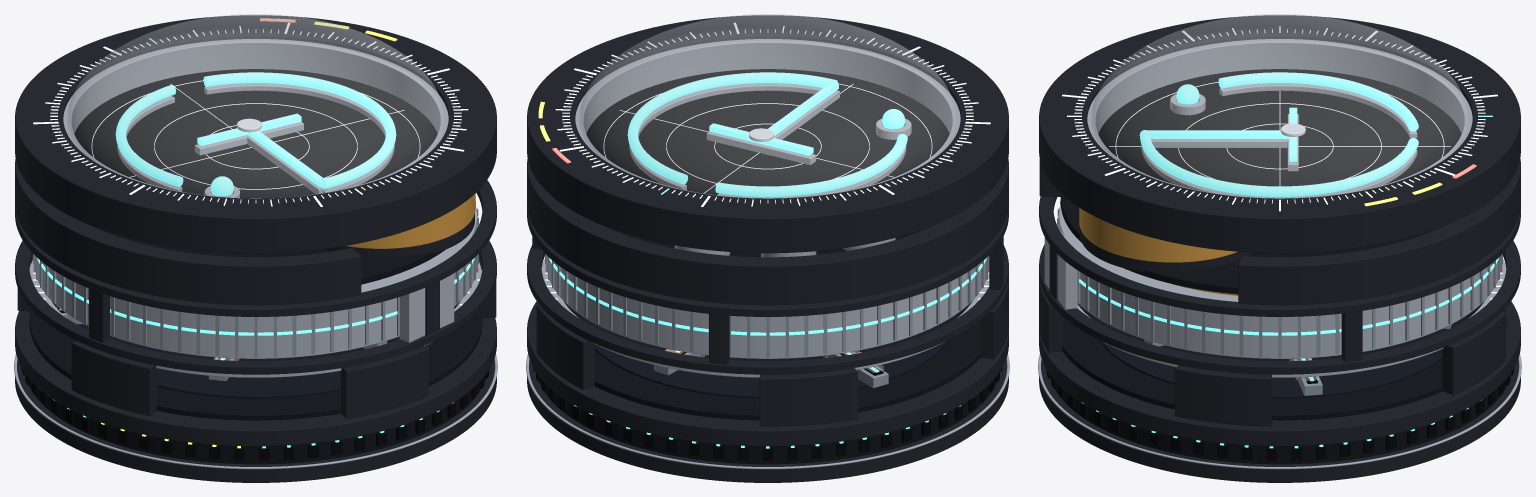
Rendered from meter.glb.
3 renders of one model, left to right at view 1: azimuth 30°, elevation 25°; view 2: azimuth 150°, elevation 25°; view 3: azimuth 270°, elevation 25°, orthographic.
Visible parts, largest first — view 1: quota_dome_glass, quota_anodized, quota_black, ingest_anodized, credits_anodized, quota_steel, drum_anodized, drum_outer_steel, prism_anodized, prism_graphite, quota_cyan, ingest_graphite (+11 smaller); view 2: quota_dome_glass, quota_anodized, credits_anodized, quota_black, ingest_anodized, quota_steel, drum_anodized, drum_outer_steel, prism_anodized, prism_graphite, quota_cyan, ingest_graphite (+11 smaller); view 3: quota_dome_glass, quota_anodized, quota_black, ingest_anodized, quota_steel, drum_anodized, credits_anodized, drum_outer_steel, prism_anodized, prism_graphite, quota_cyan, prism_silicon (+11 smaller).
Part boxes in pixels (<box>): quota_dome_glass: <box>67,14,444,198</box>; quota_anodized: <box>15,15,496,253</box>; quota_black: <box>74,69,437,198</box>; ingest_anodized: <box>15,310,496,482</box>; credits_anodized: <box>15,159,474,305</box>; quota_steel: <box>63,39,448,198</box>; drum_anodized: <box>15,180,496,374</box>; drum_outer_steel: <box>35,206,477,358</box>; prism_anodized: <box>17,256,496,418</box>; prism_graphite: <box>29,301,482,420</box>; quota_cyan: <box>115,38,396,196</box>; ingest_graphite: <box>29,378,485,464</box>; quota_dome_glass: <box>579,14,956,198</box>; quota_anodized: <box>527,15,1008,253</box>; credits_anodized: <box>527,159,1008,305</box>; quota_black: <box>586,69,949,195</box>; ingest_anodized: <box>527,301,1008,482</box>; quota_steel: <box>575,39,960,198</box>; drum_anodized: <box>527,206,1008,374</box>; drum_outer_steel: <box>547,256,988,358</box>; prism_anodized: <box>536,275,1008,426</box>; prism_graphite: <box>563,301,980,420</box>; quota_cyan: <box>627,72,907,196</box>; ingest_graphite: <box>539,382,996,464</box>; quota_dome_glass: <box>1091,14,1468,198</box>; quota_anodized: <box>1039,15,1520,253</box>; quota_black: <box>1098,69,1461,186</box>; ingest_anodized: <box>1039,301,1520,482</box>; quota_steel: <box>1087,39,1472,198</box>; drum_anodized: <box>1039,196,1520,374</box>; credits_anodized: <box>1039,159,1520,305</box>; drum_outer_steel: <box>1058,204,1500,358</box>; prism_anodized: <box>1039,275,1505,426</box>; prism_graphite: <box>1062,301,1506,420</box>; quota_cyan: <box>1139,72,1492,196</box>; prism_silicon: <box>1092,315,1467,398</box>.
Size of the model in its own units: 2.01 by 1.52 by 2.01.
